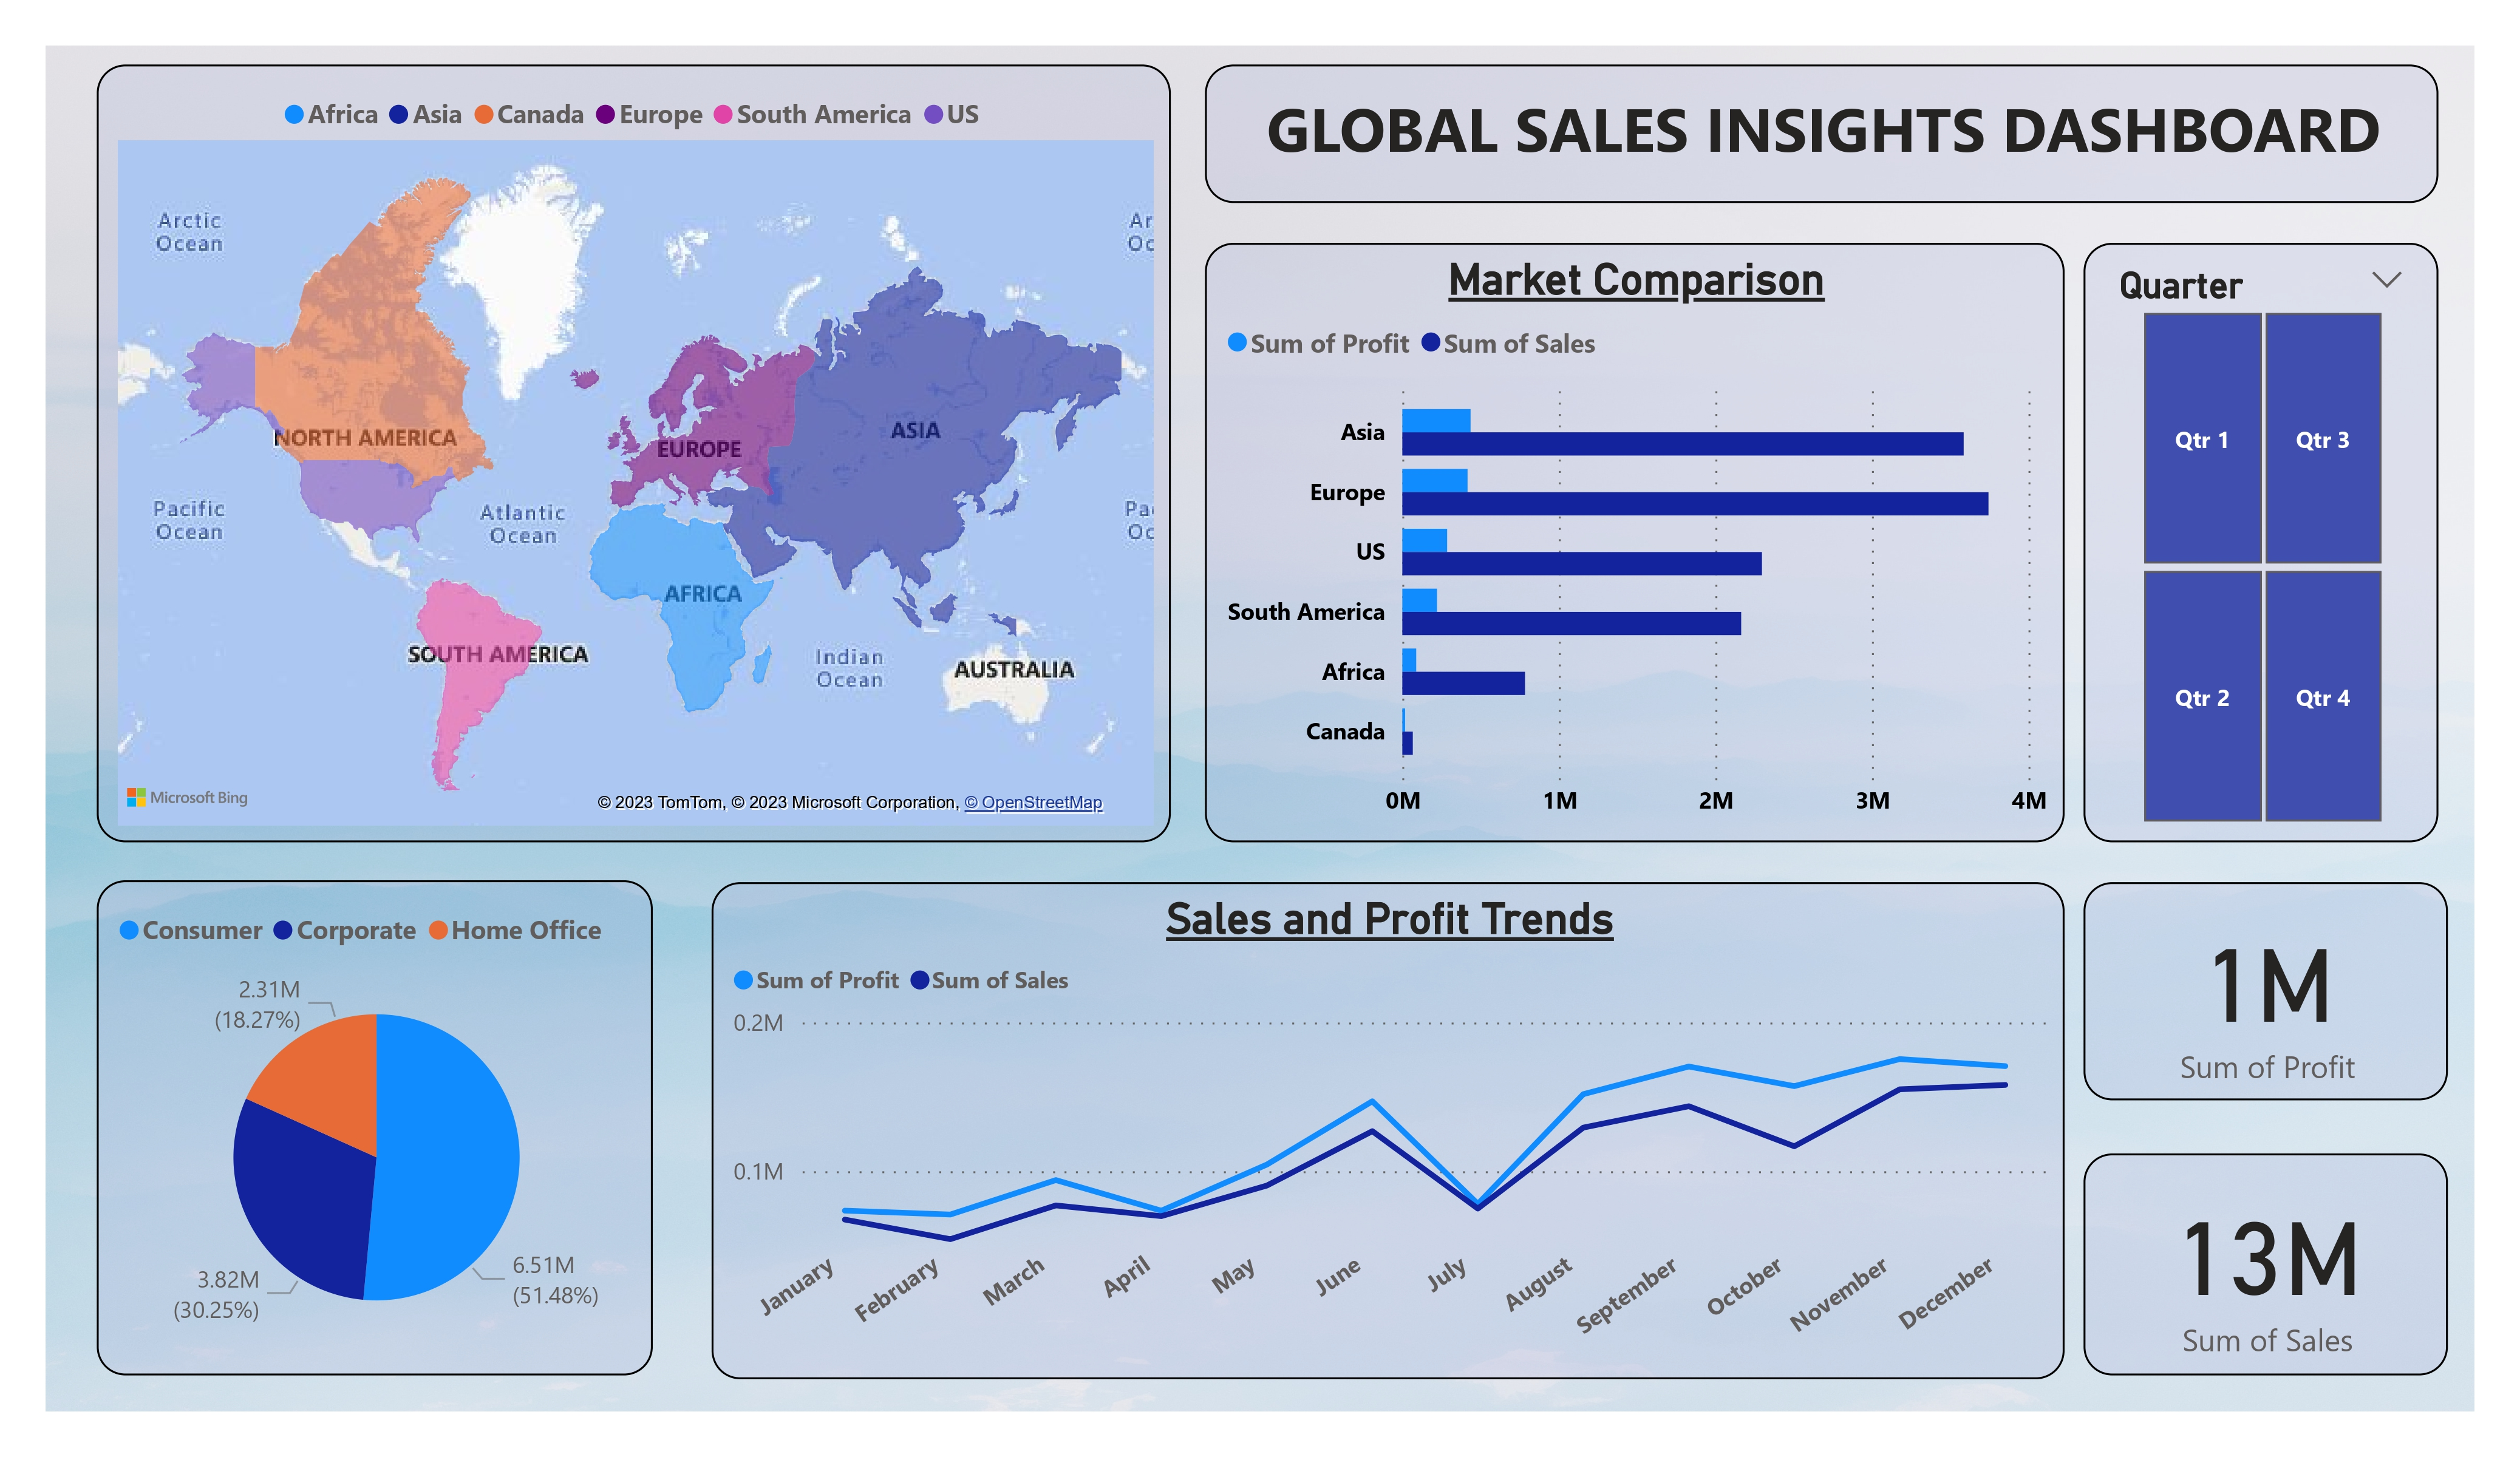

What the dashboard file says about the page in this screenshot:
{"tool":"powerbi","page":{"name":"Page 1","canvas":[1280,720],"ordinal":0},"visuals":[{"type":"lineChart","title":"Sales and Profit Trends","fields":{"Category":["Global Superstore Data.Order Date.Variation.Date Hierarchy.Month"],"Y":["Sum(Global Superstore Data.Profit)"],"Y2":["Sum(Global Superstore Data.Sales)"]},"box":[351.4,441.4,712.9,261.4],"z":0},{"type":"pieChart","fields":{"Category":["Global Superstore Data.Segment"],"Y":["Sum(Global Superstore Data.Sales)"]},"box":[27.1,440,292.9,261.4],"z":1000},{"type":"clusteredBarChart","title":"Market Comparison","fields":{"Category":["Global Superstore Data.Market"],"Y":["Sum(Global Superstore Data.Profit)","Sum(Global Superstore Data.Sales)"]},"box":[611.4,104.3,452.9,315.7],"z":2000},{"type":"filledMap","fields":{"Series":["Global Superstore Data.Market"],"Category":["Global Superstore Data.Market"]},"box":[27.1,10,565.7,410],"z":3000},{"type":"card","fields":{"Values":["Sum(Global Superstore Data.Profit)"]},"box":[1074.3,441.4,191.4,114.3],"z":4000},{"type":"card","fields":{"Values":["Sum(Global Superstore Data.Sales)"]},"box":[1074.3,584.3,191.4,117.1],"z":5000},{"type":"slicer","fields":{"Values":["Global Superstore Data.Order Date.Variation.Date Hierarchy.Quarter"]},"box":[1074.3,104.3,187.1,315.7],"z":6000},{"type":"textbox","box":[611.4,10,650,72.9],"z":6001}]}

Visuals, with their boxes in screenshot pixels (x1, y1, x2, y2):
"Sales and Profit Trends" lineChart: 712/883/2065/1379
pieChart - Global Superstore Data.Segment x Sum(Global Superstore Data.Sales): 97/880/653/1376
"Market Comparison" clusteredBarChart: 1206/243/2065/843
filledMap - Global Superstore Data.Market x Global Superstore Data.Market: 97/64/1171/843
card - Sum(Global Superstore Data.Profit): 2084/883/2447/1100
card - Sum(Global Superstore Data.Sales): 2084/1154/2447/1376
slicer - Global Superstore Data.Order Date.Variation.Date Hierarchy.Quarter: 2084/243/2439/843
textbox: 1206/64/2439/203
